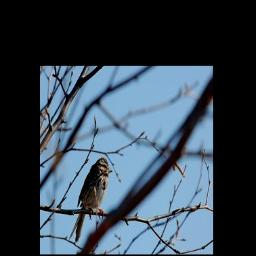Sparrow: (68, 155, 112, 243)
